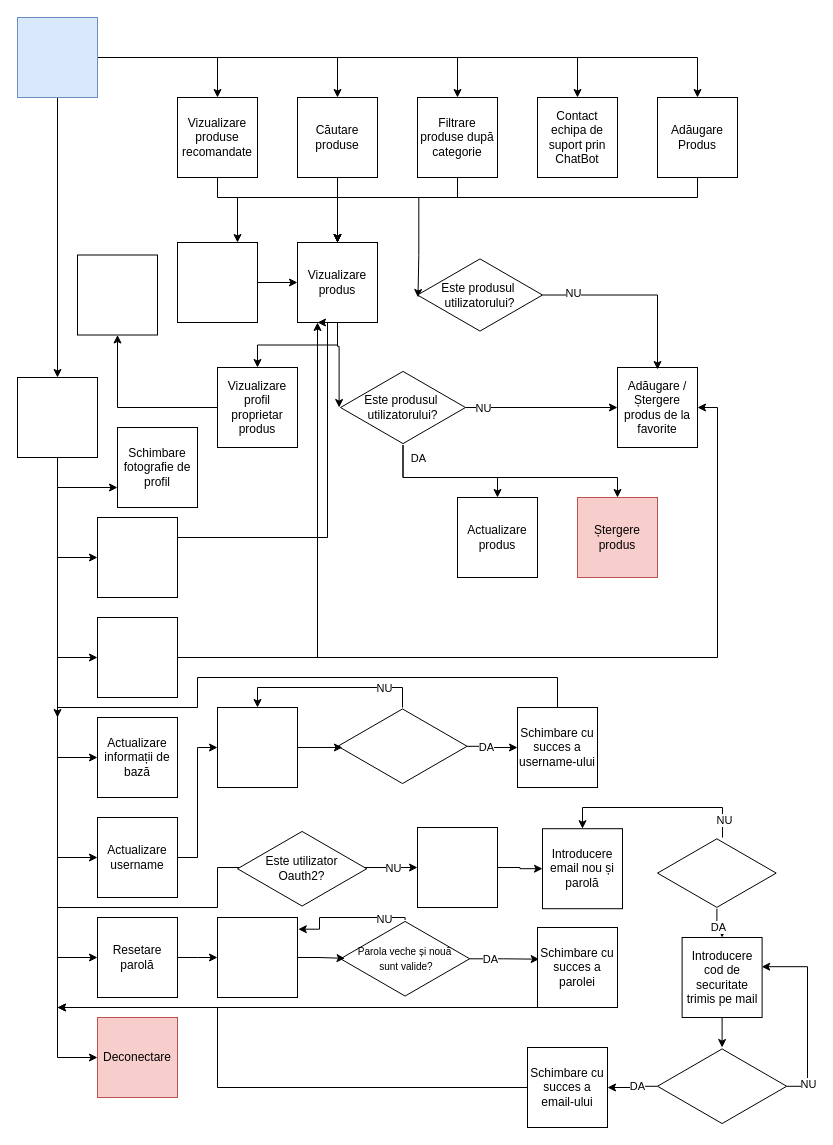
Some shapes in this 833 by 1145 pixel diagram are drawn without their labels. The shapes that lost their labels are listed below. From the top down, each one's centre as x and y in pixels, then its label:
[57,57]: Accesare Platformă
[117,294]: Apelare utilizator pentru realizarea schimbului
[217,282]: Aplicare criteriu de sortare produse
[57,417]: Vizualizare profil utilizator
[137,557]: Vizualizare produse adaugate
[137,657]: Vizualizare produse favorite
[257,747]: Introducere username nou și parolă
[402,745]: Username nou și parolă valide?
[457,867]: Resetare email
[716,872]: Parola este corectă și email-ul valid?
[257,957]: Introducere parolă veche și cea nouă
[721,1085]: Codul este corect?
